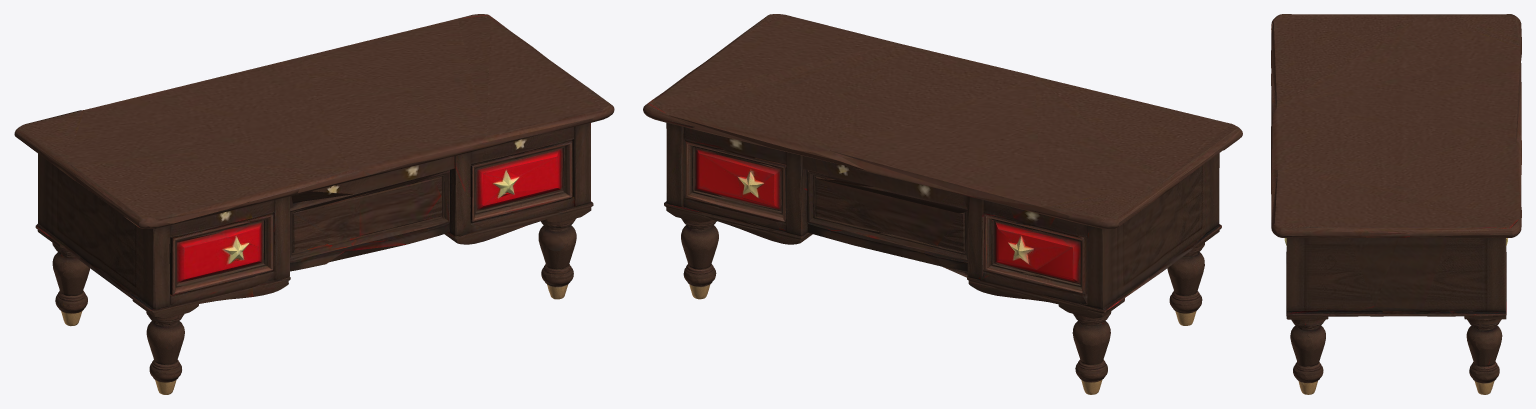
File: xmas_lead_bench.glb
3 views of the same model, side by side, from view 1: azimuth 30°, elevation 25°; view 2: azimuth 150°, elevation 25°; view 3: azimuth 270°, elevation 25° (orthographic). The views are drawn at different scales.
Size of the model in its own units: 1.9 by 0.7439 by 0.927.
Materials: 1 (1 with a texture image).
